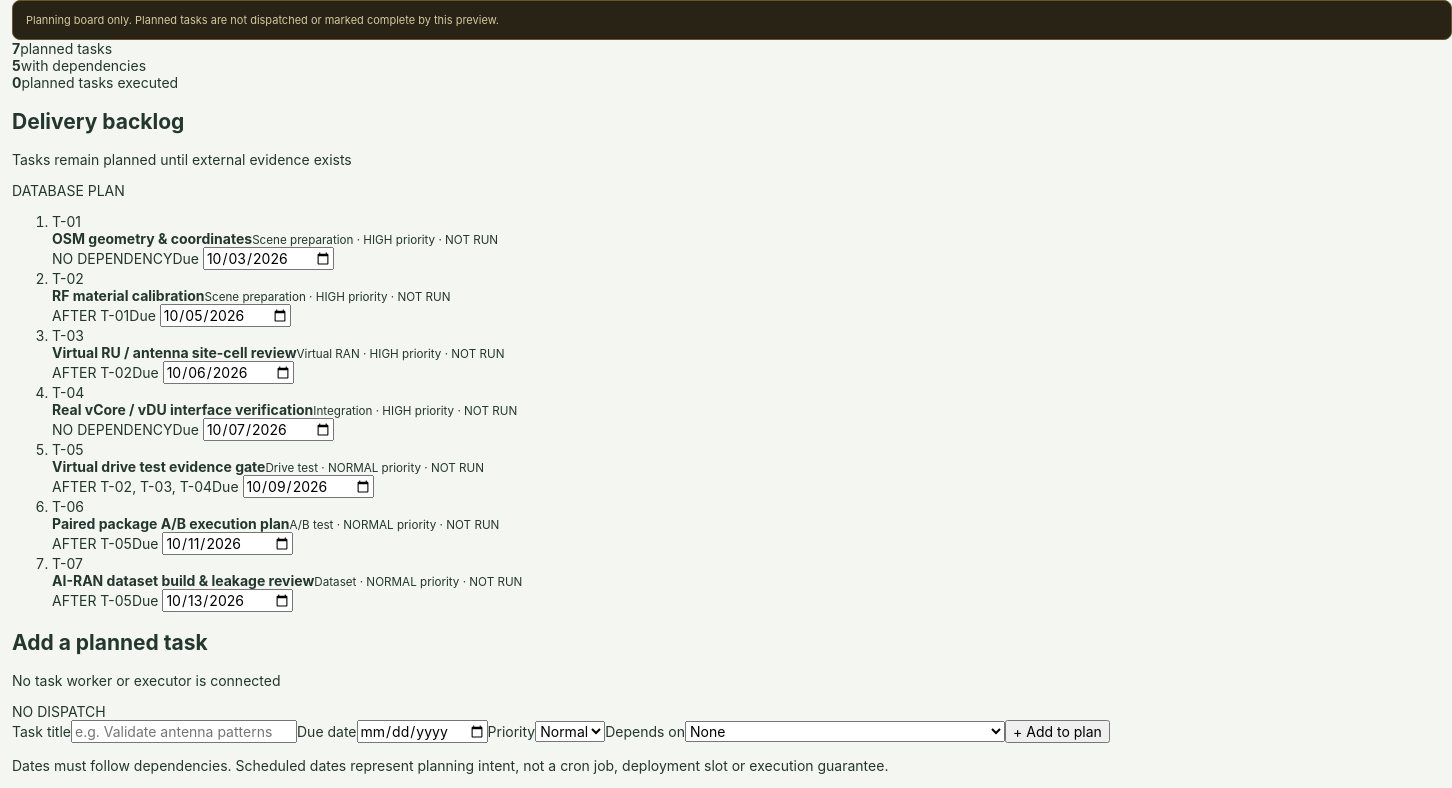
TaskBoardPreviewLeaf › adds planned work, keeps execution false, and rejects dates before dependencies
The image size is (1452, 788).
(page scrolled)
Step 1. Type "Validate antenna patterns" into the field labelled "Task title" → (184, 732), box 71,720 -> 297,743
Step 2. Type "2026-12-01" into the date field named "Task due date" → (422, 732), box 356,720 -> 488,743
Step 3. Select "T-07 · AI-RAN dataset build & leakage review" in the dropdown labelled "Depends on" → (845, 732), box 685,721 -> 1005,742
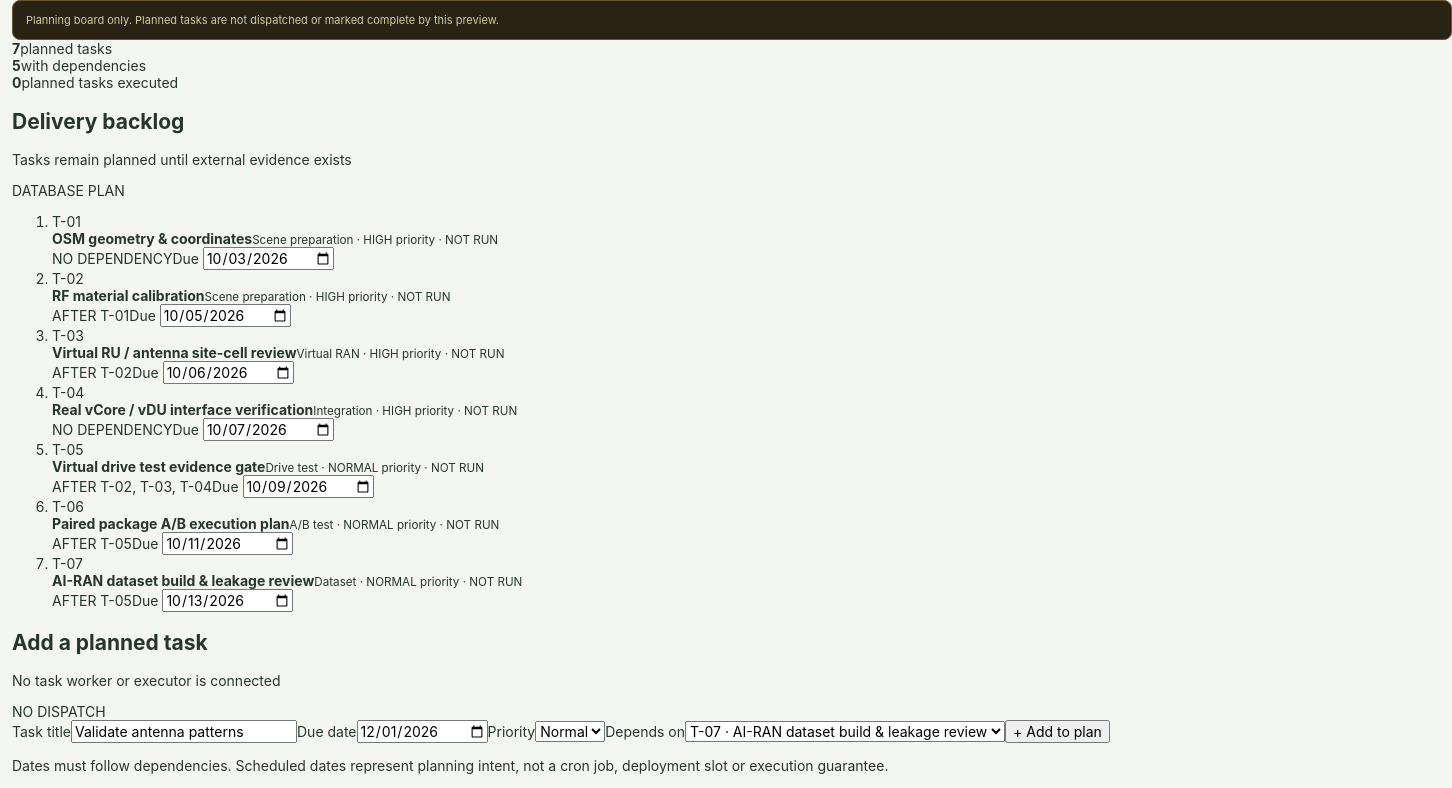
Step 4. Submit the form named "Add a planned task", box 12,720 -> 1110,743
(page scrolled)
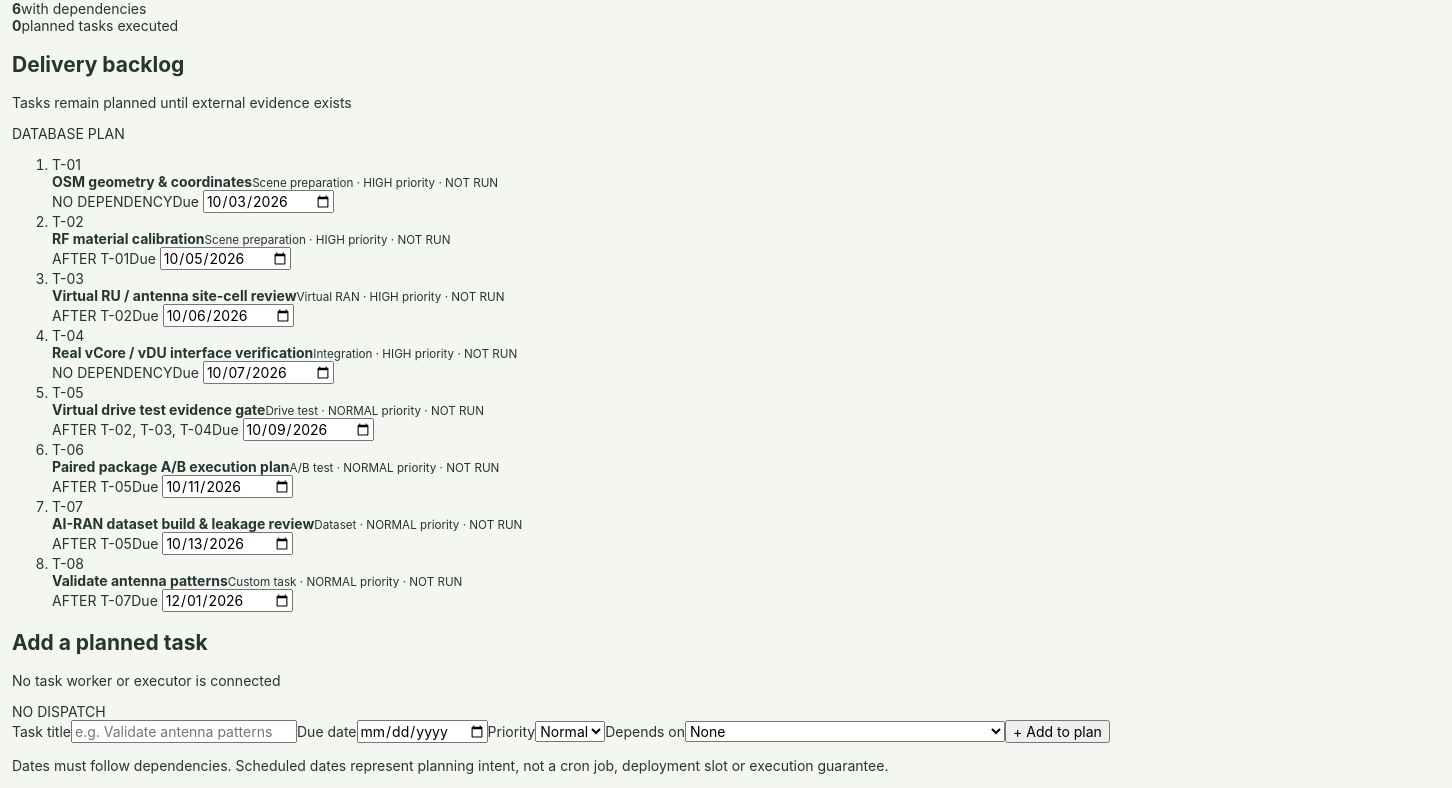
expect the text "Validate antenna patterns" is shown: met, box 52,572 -> 228,589
expect the field labelled "Task title" is empty: met, box 71,720 -> 297,743
Step 5. Type "2000-01-01" into the date field named "Task due date" → (422, 732), box 356,720 -> 488,743
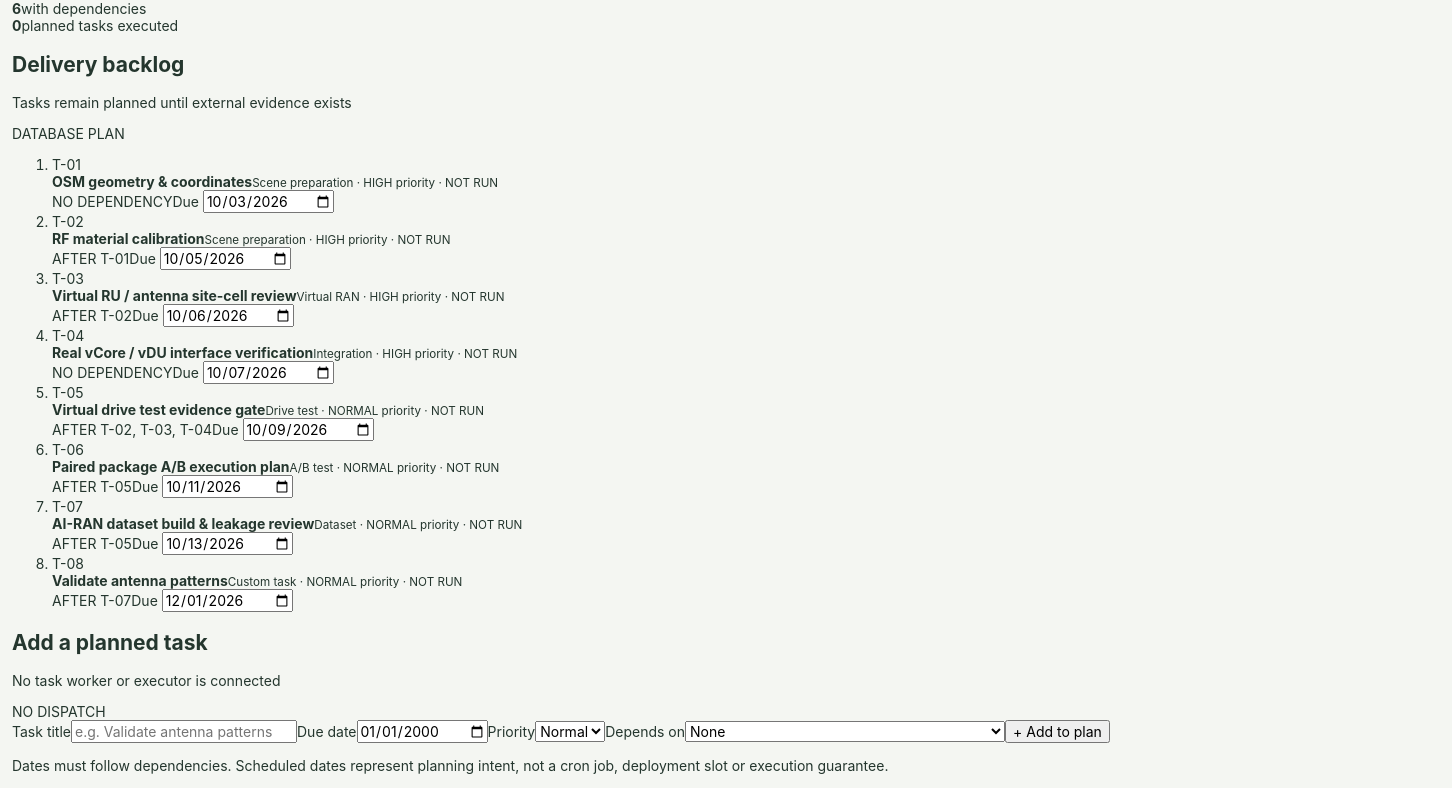
Step 6. Type "Too early" into the field labelled "Task title" → (184, 732), box 71,720 -> 297,743
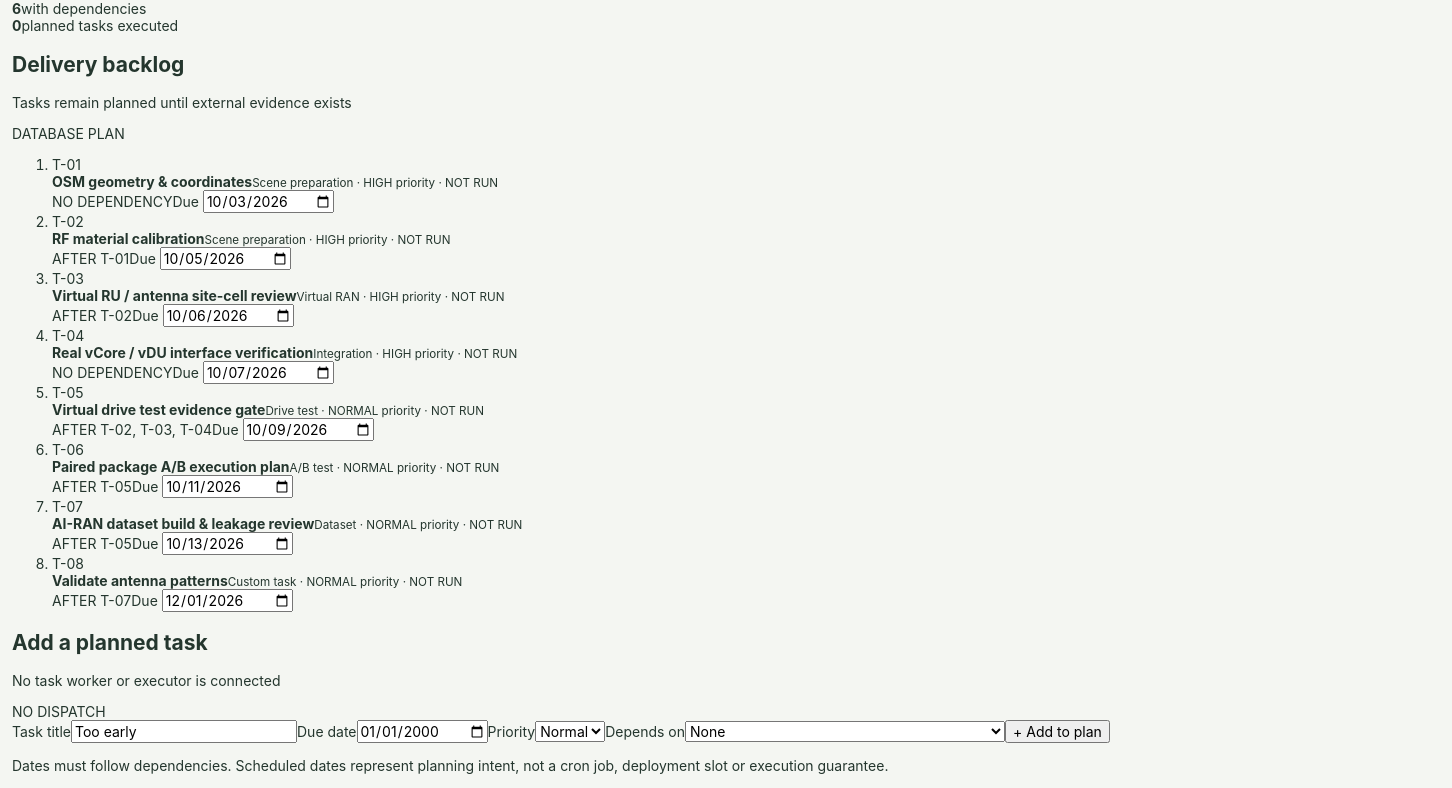
Step 7. Select "T-01 · OSM geometry & coordinates" in the dropdown labelled "Depends on" → (845, 732), box 685,721 -> 1005,742
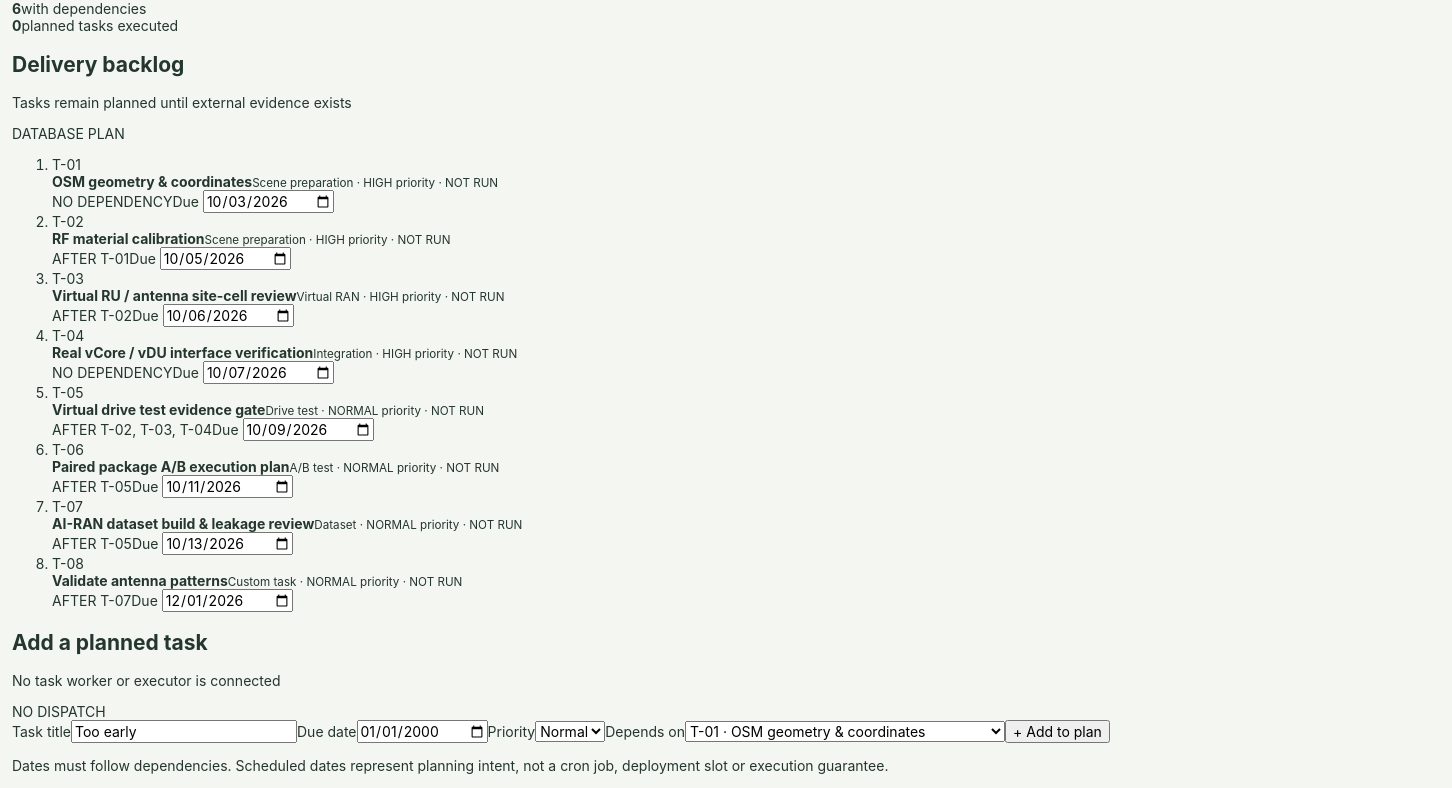
Step 8. Submit the form named "Add a planned task", box 12,720 -> 1110,743
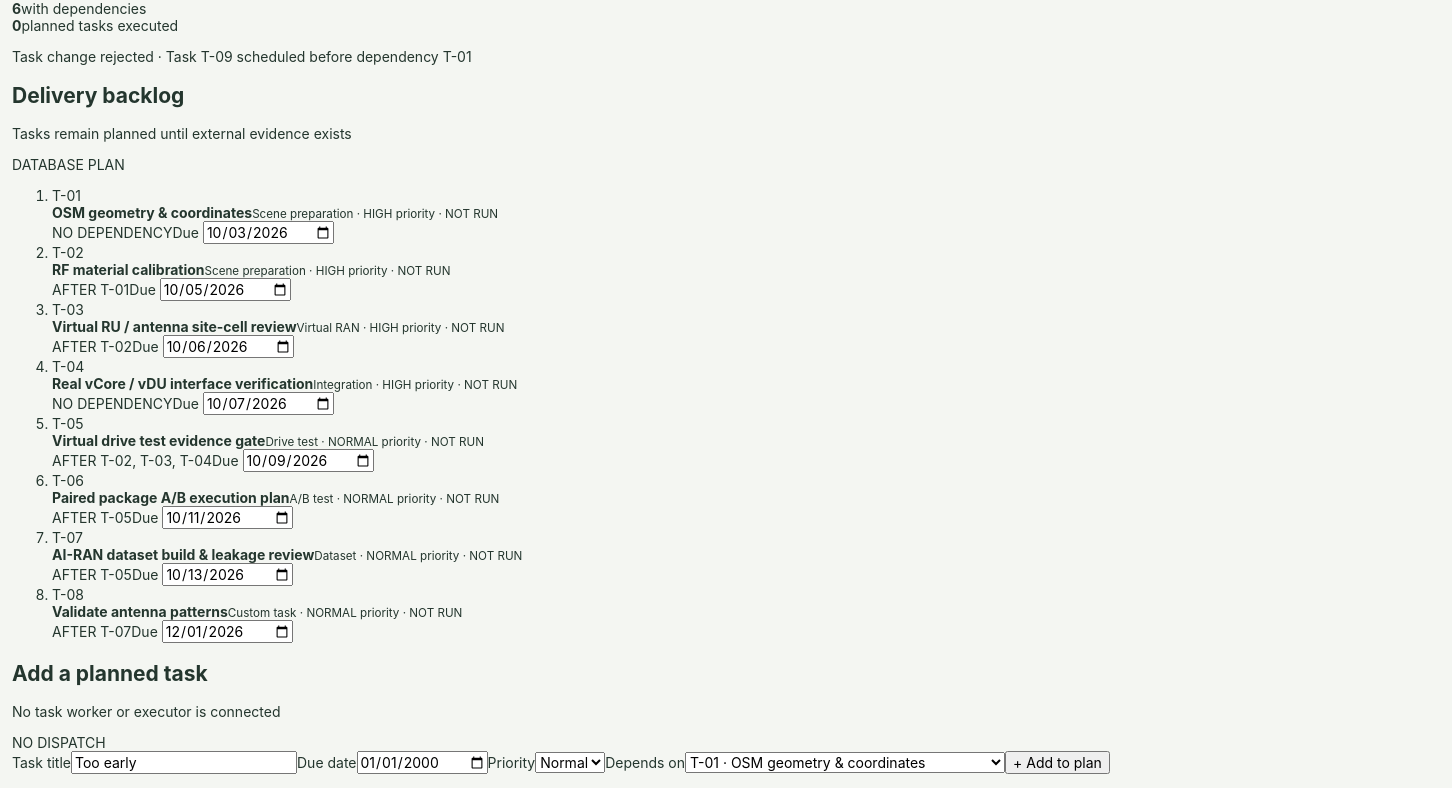
expect the message shows "Task T-09 scheduled before dependency T-01": met, box 166,48 -> 472,65
